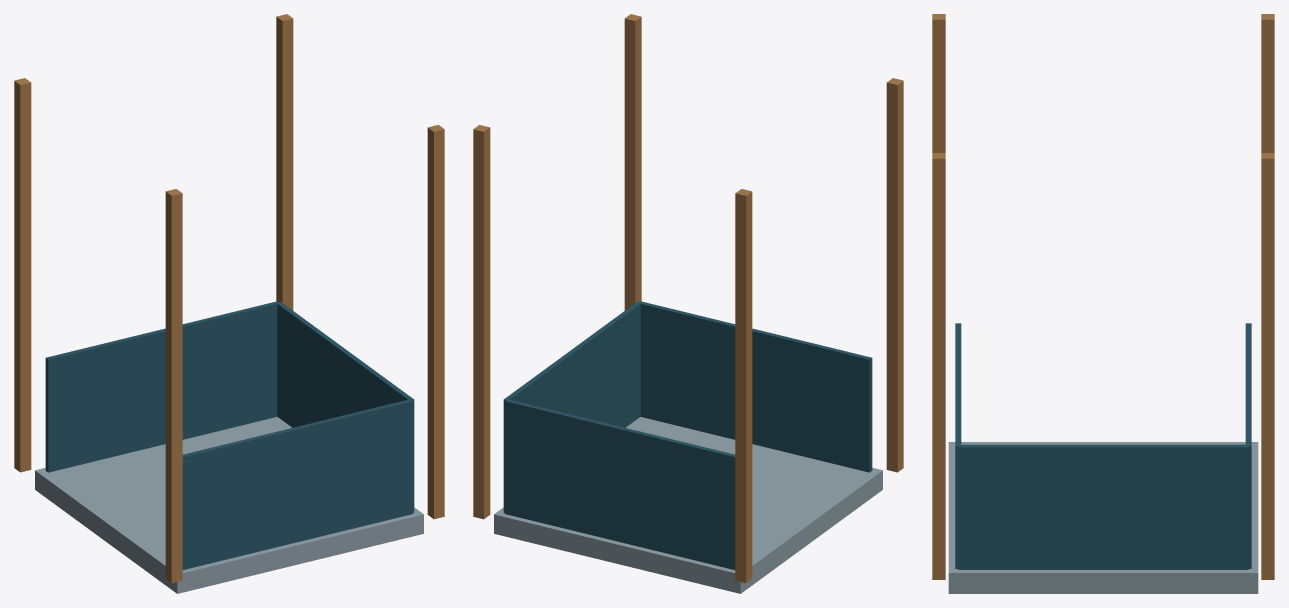
File: lift.lod2.glb
3 views of the same model, side by side, from view 1: azimuth 30°, elevation 25°; view 2: azimuth 150°, elevation 25°; view 3: azimuth 270°, elevation 25° (orthographic). The views are drawn at different scales.
Parts seen in each view (by area): view 1: platform, structure; view 2: platform, structure; view 3: platform, structure.
Boxes of the visible parts, x1,y1,x2,y2 form: platform: (35, 301, 423, 593); structure: (14, 14, 444, 583); platform: (494, 301, 882, 593); structure: (473, 14, 903, 583); platform: (948, 323, 1258, 593); structure: (932, 14, 1274, 579).
Bounding box in the file's own units: 3.54 × 5.04 × 3.54.
